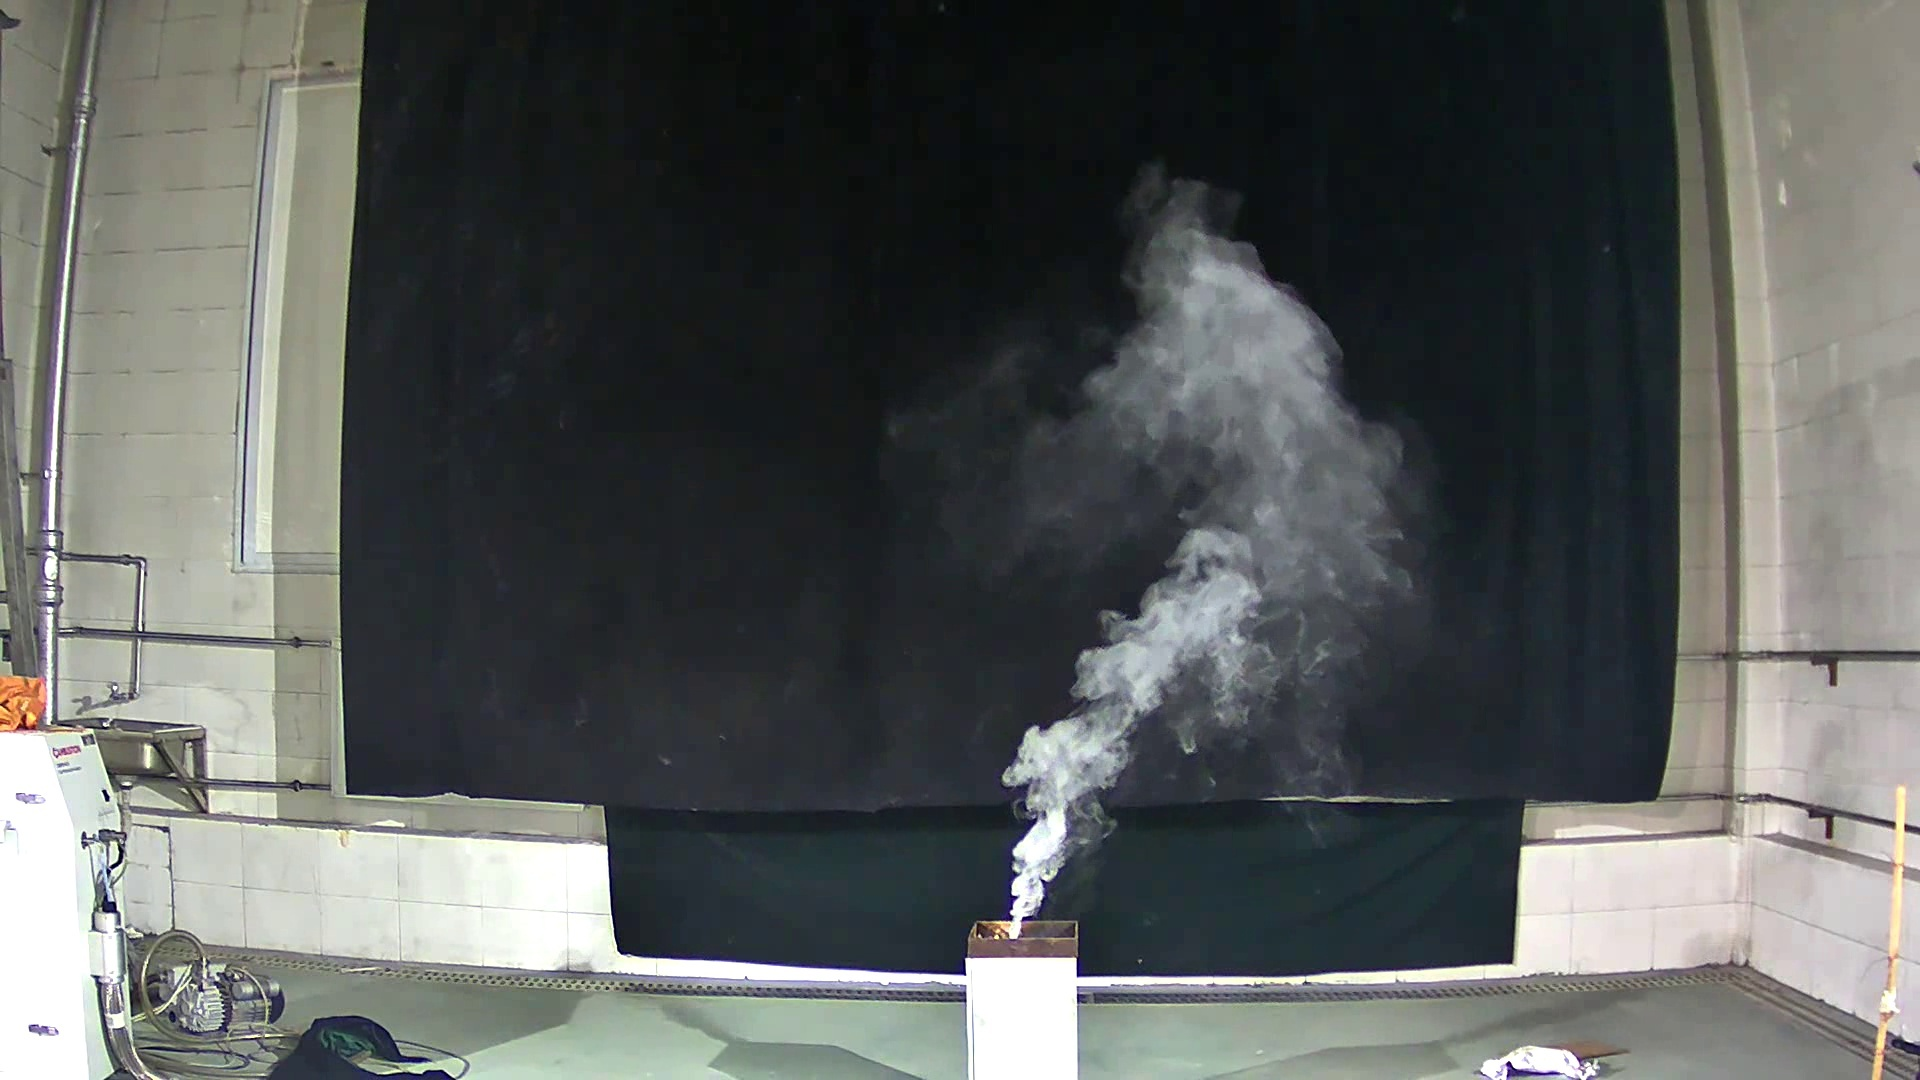smoke: (938, 170, 1414, 924)
